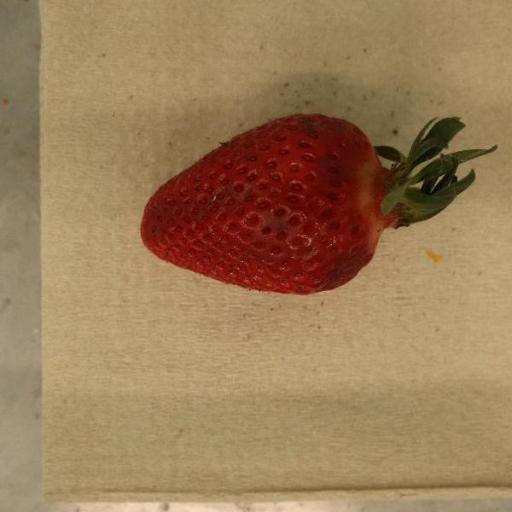Strawberry: (138, 114, 498, 296)
